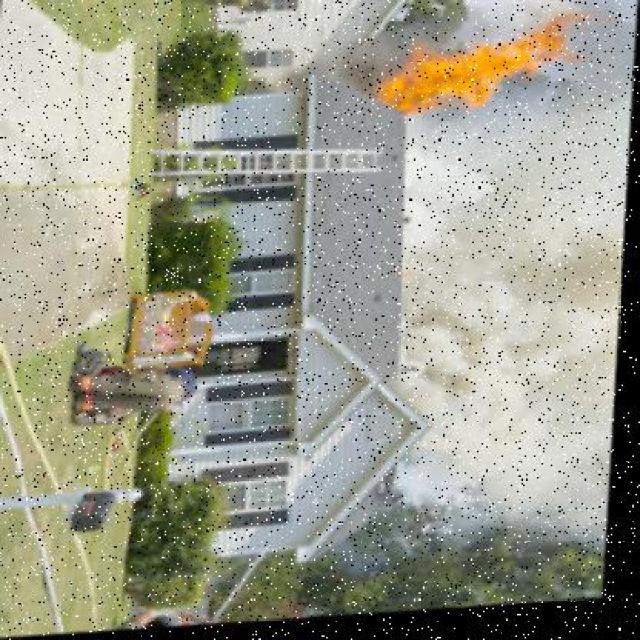fire: (374, 20, 582, 129)
